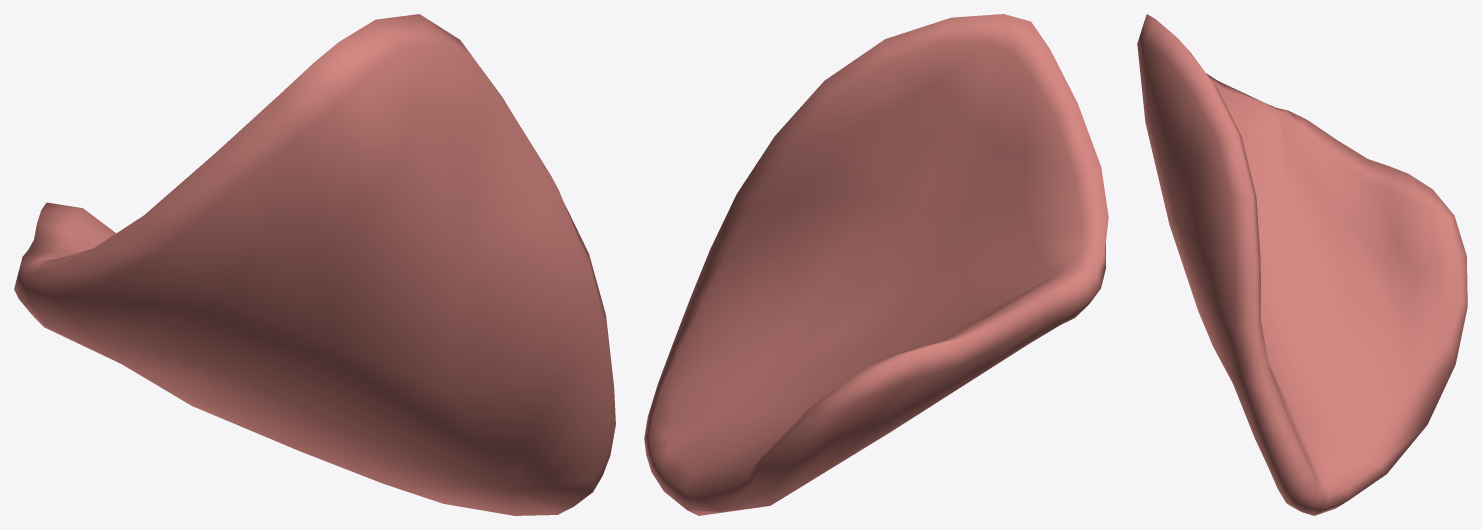
3 renders of one model, left to right at view 1: azimuth 30°, elevation 25°; view 2: azimuth 150°, elevation 25°; view 3: azimuth 270°, elevation 25°, orthographic. The views are drawn at different scales.
Visible parts, largest first — view 1: ZA_d98a07d466241065; view 2: ZA_d98a07d466241065; view 3: ZA_d98a07d466241065.
Part boxes in pixels (x1,y1,x2,y2): ZA_d98a07d466241065: (14,14,615,515); ZA_d98a07d466241065: (644,14,1108,515); ZA_d98a07d466241065: (1137,14,1467,515).
Size of the model in its own units: 0.00484 by 0.00496 by 0.00375.
